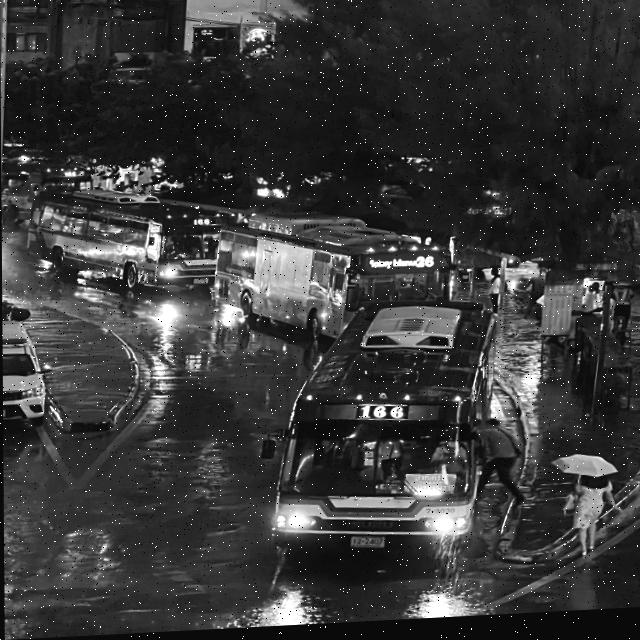BMTA-bus: (267, 297, 507, 567), (213, 206, 456, 349), (23, 179, 228, 301)
Bus-Line-Number: (357, 409, 406, 424)
Destination-Sign-Extra-Bus: (403, 478, 456, 503)
